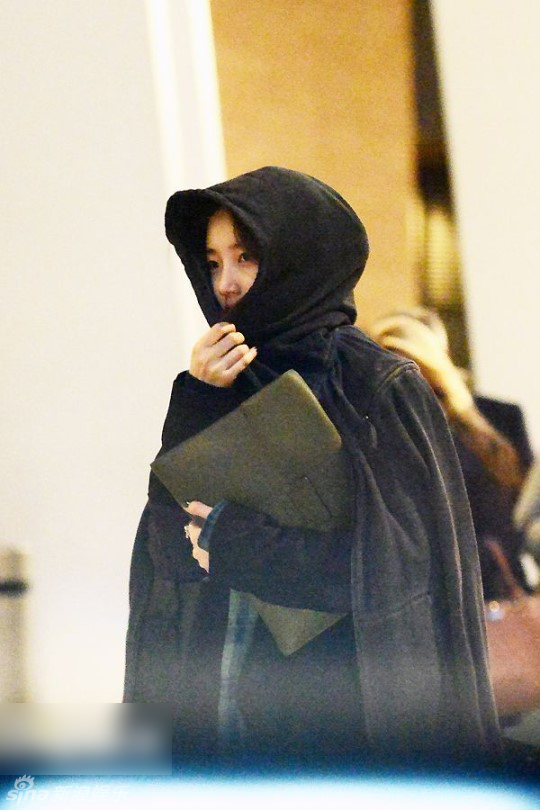face: (205, 206, 272, 337)
